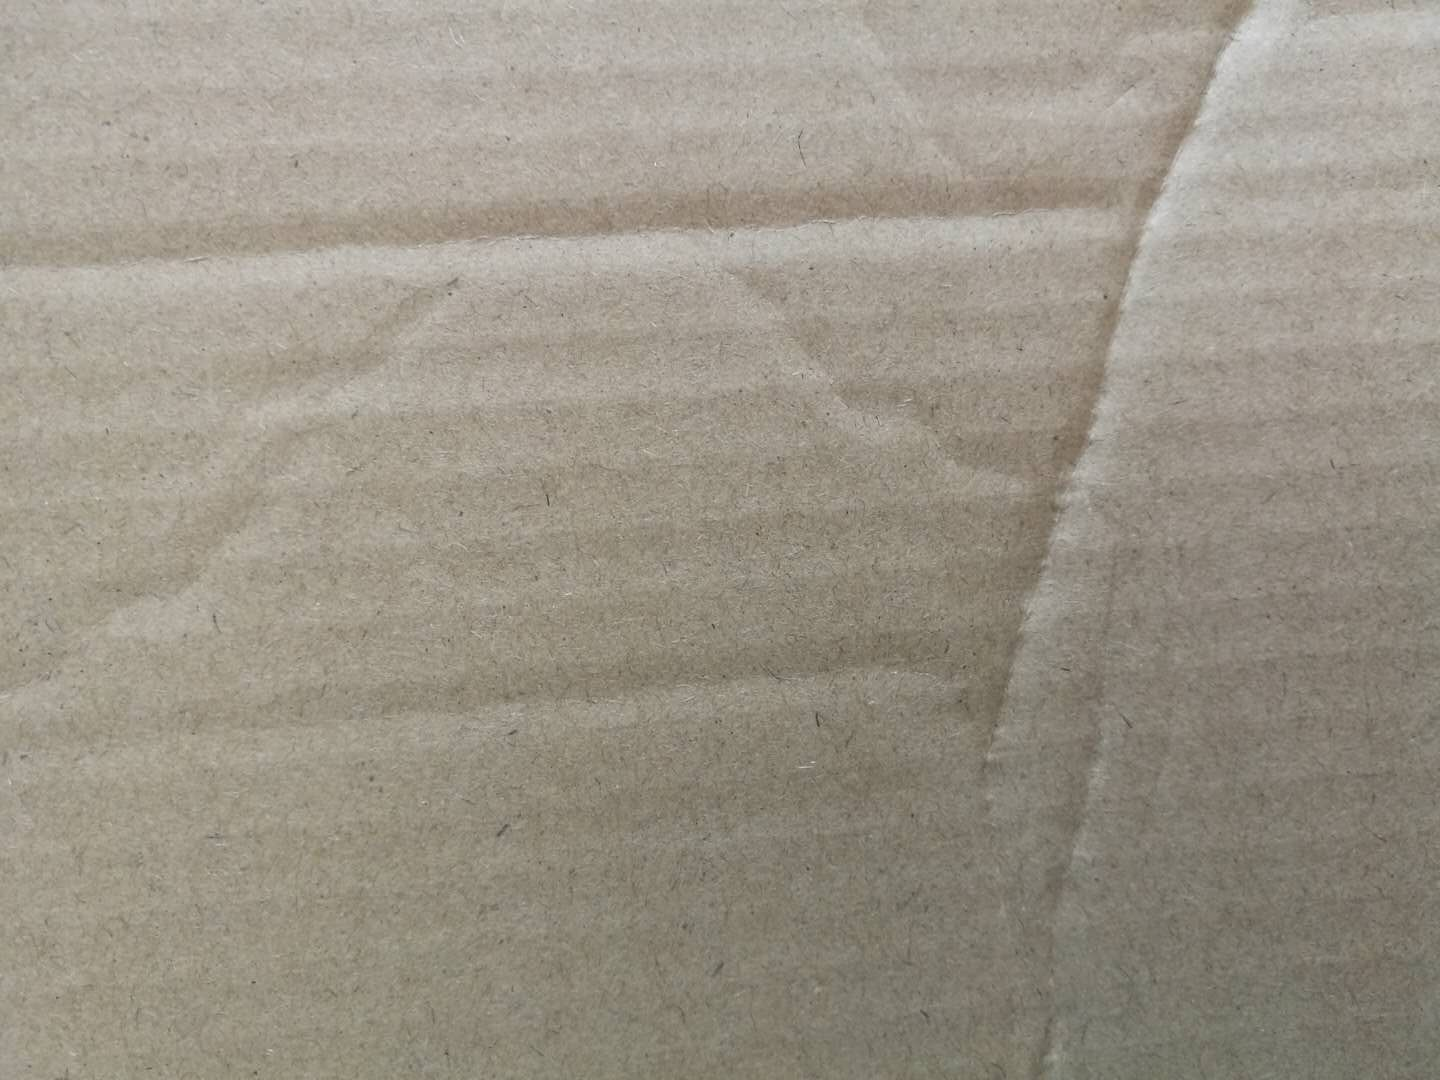defect: (939, 1, 1277, 835), (1, 141, 1440, 315), (3, 258, 497, 703), (1, 624, 1013, 770), (997, 597, 1193, 1080)
